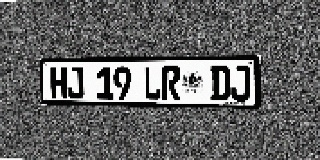1: (96, 66, 114, 99)
9: (114, 66, 131, 100)
D: (211, 66, 230, 101)
H: (50, 67, 67, 99)
J: (230, 65, 250, 101), (67, 67, 84, 99)
L: (144, 66, 161, 100)
R: (162, 66, 180, 100)
